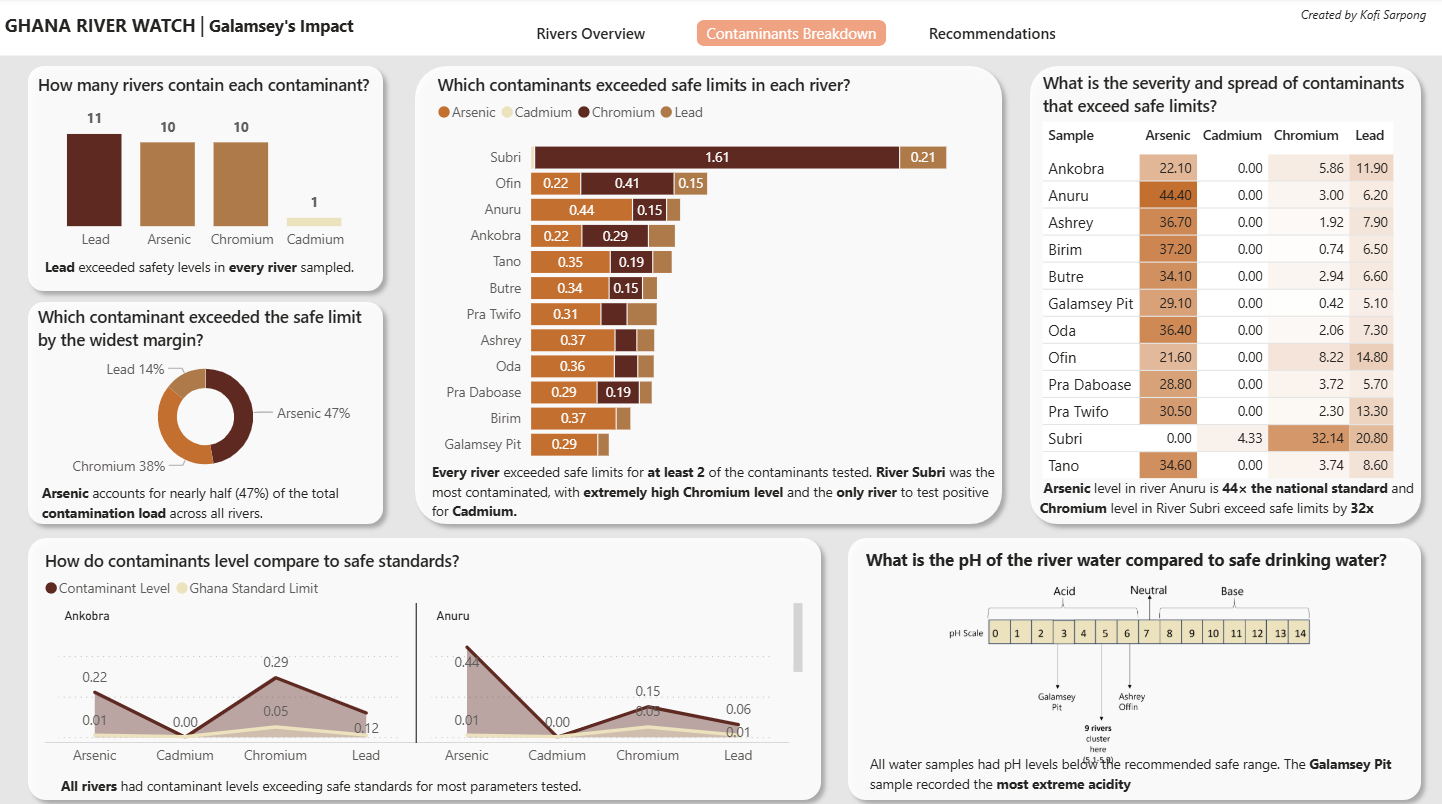

The dashboard page shown, as its layout file describes it:
{"tool":"powerbi","page":{"name":"Contaminants Breakdown","canvas":[1280,720],"ordinal":1},"visuals":[{"type":"shape","box":[0,0,1280.4,51.4],"z":0},{"type":"shape","box":[743.9,470,525.8,250],"z":1000},{"type":"shape","box":[905.3,51.4,364.4,423.8],"z":2000},{"type":"shape","box":[360,51.4,538.2,423.8],"z":3000},{"type":"shape","box":[16.8,470,720.9,250],"z":4000},{"type":"shape","box":[16.8,260.7,332.5,214.6],"z":5000},{"type":"shape","box":[16.8,51.4,332.5,217.2],"z":6000},{"type":"textbox","box":[0,5.3,349.4,52.3],"z":7000},{"type":"clusteredColumnChart","title":"How many rivers contain each contaminant?","fields":{"Category":["Contaminants.Contaminant"],"Y":["All measures.Rivers With Exceedance"]},"box":[29.3,66.6,307.7,165.8],"z":8000},{"type":"areaChart","title":"How do contaminants level compare to safe standards?","fields":{"Category":["RiverSamplesLong.Contaminant"],"Y":["Sum(RiverSamplesLong.Sample Value)","All measures.Ghana Standard Limit"],"Rows":["RiverSamplesLong.Sample"]},"box":[35.5,488.6,682.8,201.3],"z":9000},{"type":"textbox","box":[917.7,420.5,345.8,50.5],"z":10000},{"type":"pivotTable","title":"What is the severity and spread of contaminants that exceed safe limits?","fields":{"Rows":["RiverSamplesLong.Sample"],"Columns":["RiverSamplesLong.Contaminant"],"Values":["All measures.Exceedance Ratio"]},"box":[920.4,64.9,342.3,376.8],"z":11000},{"type":"donutChart","title":"Which contaminant exceeded the safe limit by the widest margin?","fields":{"Category":["RiverSamplesLong.Contaminant"],"Y":["All measures.Total Exceedance by Contaminant"]},"box":[29.3,272.2,307.7,157.8],"z":12000},{"type":"barChart","title":"Which contaminants exceeded safe limits in each river?","fields":{"Category":["RiverData.Sample"],"Y":["All measures.As Exceedance","All measures.Cd Exceedance","All measures.Cr Exceedance","All measures.Pb Exceedance"]},"box":[384.8,66.5,494.8,353.8],"z":13000},{"type":"image","box":[767,510.7,468.2,179.1],"z":14000},{"type":"textbox","box":[35.5,224.5,307.7,31],"z":15000},{"type":"textbox","box":[32.8,424.9,297,46.1],"z":16000},{"type":"textbox","box":[378.6,406.3,516.9,61.2],"z":17000},{"type":"textbox","box":[49.7,684.5,508.1,27.5],"z":18000},{"type":"textbox","box":[763.4,482.4,480.6,31],"z":19000},{"type":"textbox","box":[767,665,483.3,47],"z":20000},{"type":"textbox","box":[1149.2,0,131.2,28.4],"z":21000},{"type":"pageNavigator","box":[440.7,19.5,524.9,23.9],"z":22000}]}

Visuals, with their boxes in screenshot pixels (x1, y1, x2, y2), scaled from the page's 1280x720 canvas onto the 1442x804 screenshot:
shape: 0,0,1441,57
shape: 838,525,1430,803
shape: 1020,57,1430,531
shape: 406,57,1012,531
shape: 19,525,831,803
shape: 19,291,394,531
shape: 19,57,394,300
textbox: 0,6,394,64
"How many rivers contain each contaminant?" clusteredColumnChart: 33,74,380,260
"How do contaminants level compare to safe standards?" areaChart: 40,546,809,770
textbox: 1034,470,1423,526
"What is the severity and spread of contaminants that exceed safe limits?" pivotTable: 1037,72,1423,493
"Which contaminant exceeded the safe limit by the widest margin?" donutChart: 33,304,380,480
"Which contaminants exceeded safe limits in each river?" barChart: 434,74,991,469
image: 864,570,1392,770
textbox: 40,251,387,285
textbox: 37,474,372,526
textbox: 427,454,1009,522
textbox: 56,764,628,795
textbox: 860,539,1401,573
textbox: 864,743,1409,795
textbox: 1295,0,1441,32
pageNavigator: 496,22,1088,48
